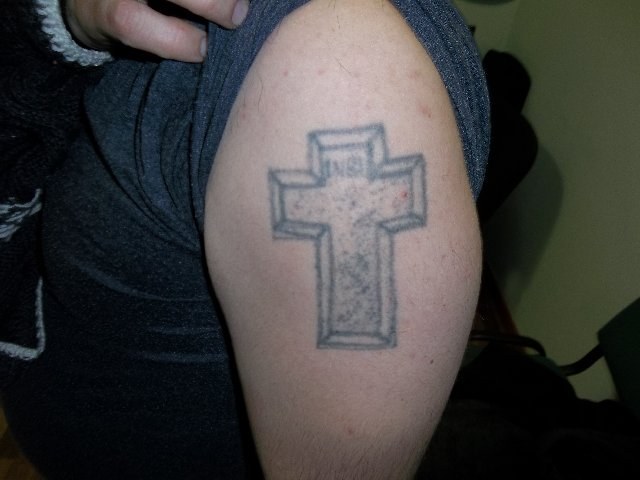tatu9_krest: (261, 119, 433, 355)
